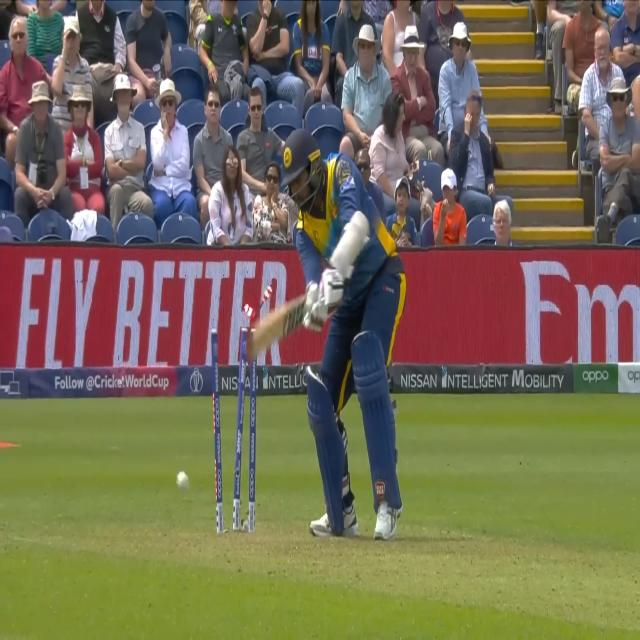ball: (170, 468, 193, 502)
